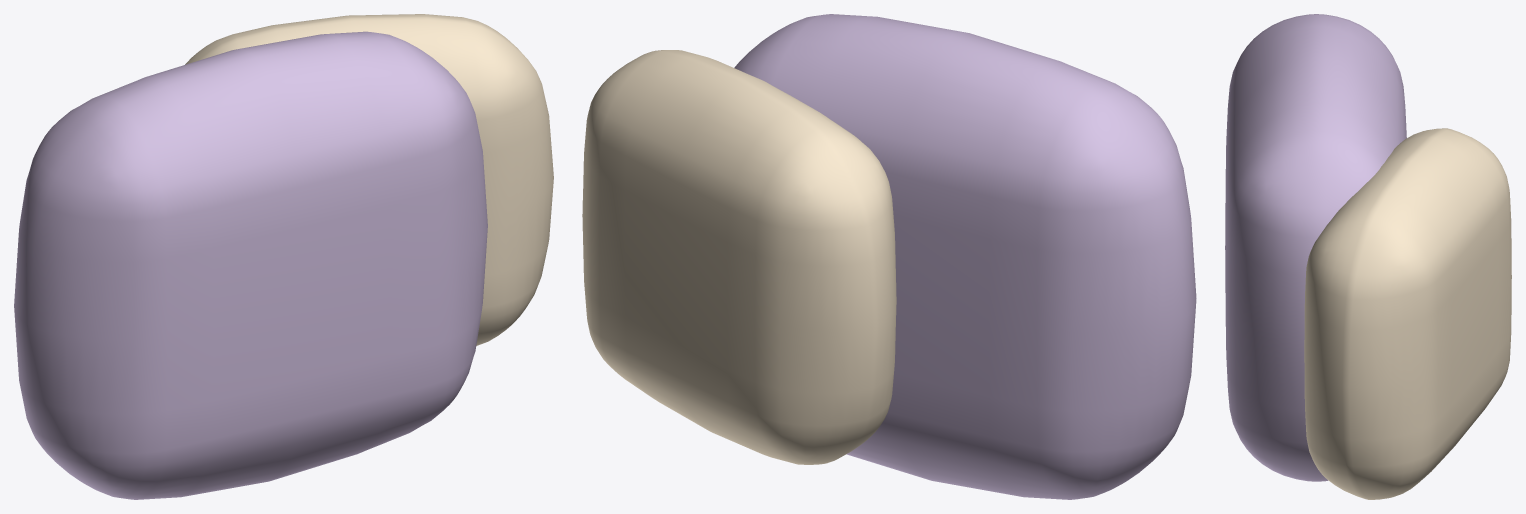
Rendered from cushions_c.glb.
3 views of the same model, side by side, from view 1: azimuth 30°, elevation 25°; view 2: azimuth 150°, elevation 25°; view 3: azimuth 270°, elevation 25° (orthographic). The views are drawn at different scales.
Parts seen in each view (by area): view 1: body; view 2: body; view 3: body.
Part boxes in pixels (x1,y1,x2,y2): body: (14,14,553,499); body: (582,14,1196,499); body: (1225,14,1511,499).
Size of the model in its own units: 0.4327 by 0.32 by 0.2194.
